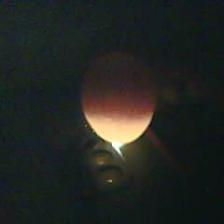fertile: (78, 46, 160, 150)
